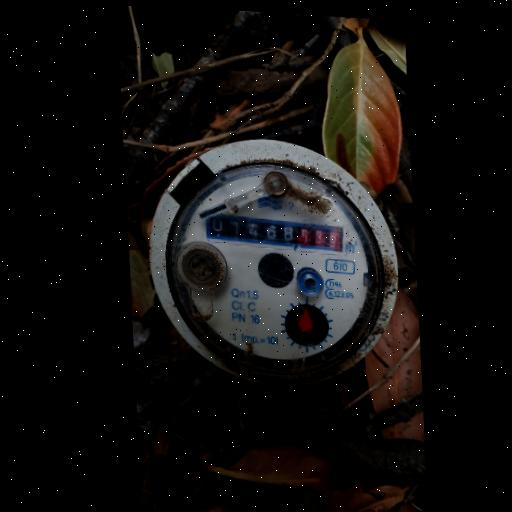0: (208, 217, 226, 237)
1: (229, 219, 241, 238)
3: (312, 227, 325, 248)
4: (246, 220, 261, 240)
5: (296, 226, 313, 245)
6: (263, 223, 280, 242)
8: (281, 224, 296, 243)
9: (326, 226, 341, 252)
border_water_meter_number: (205, 212, 346, 253)
